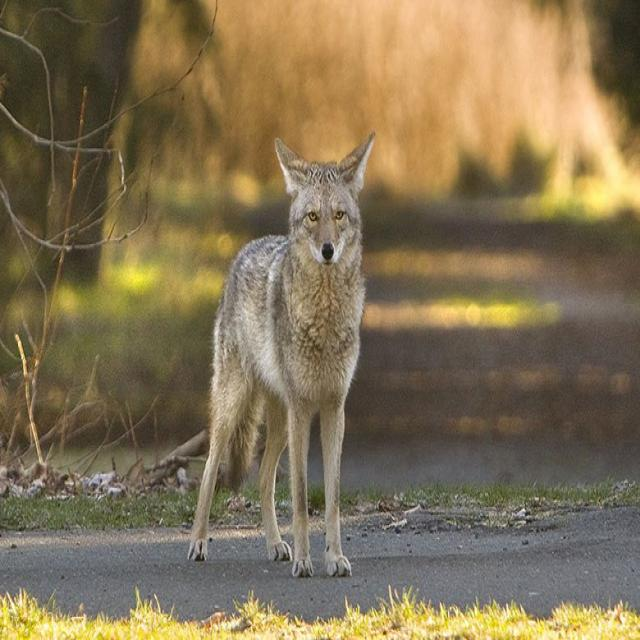Coyote: (181, 123, 380, 593)
